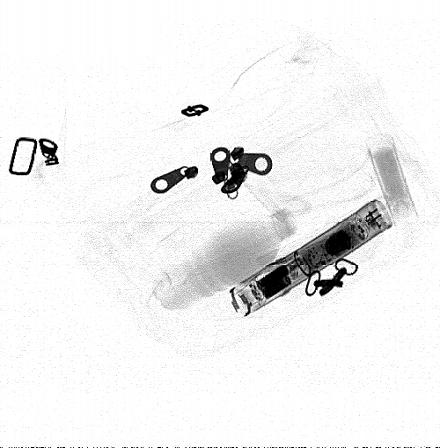Baton: (229, 198, 393, 320)
